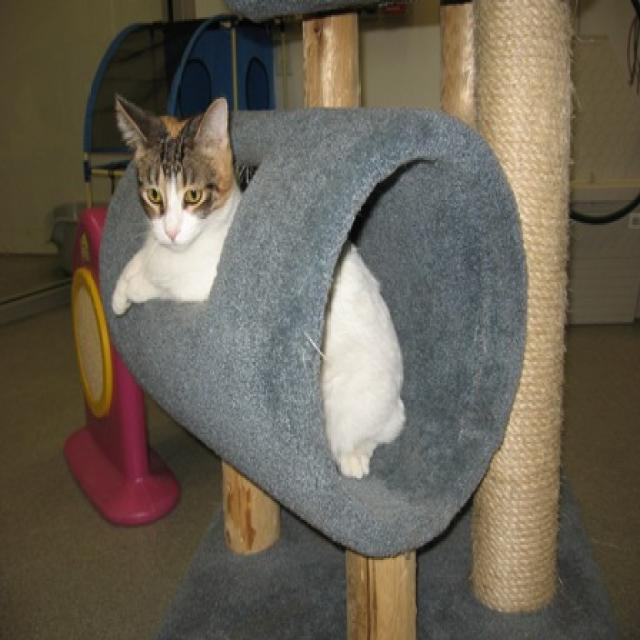Cats: (108, 90, 406, 478)
